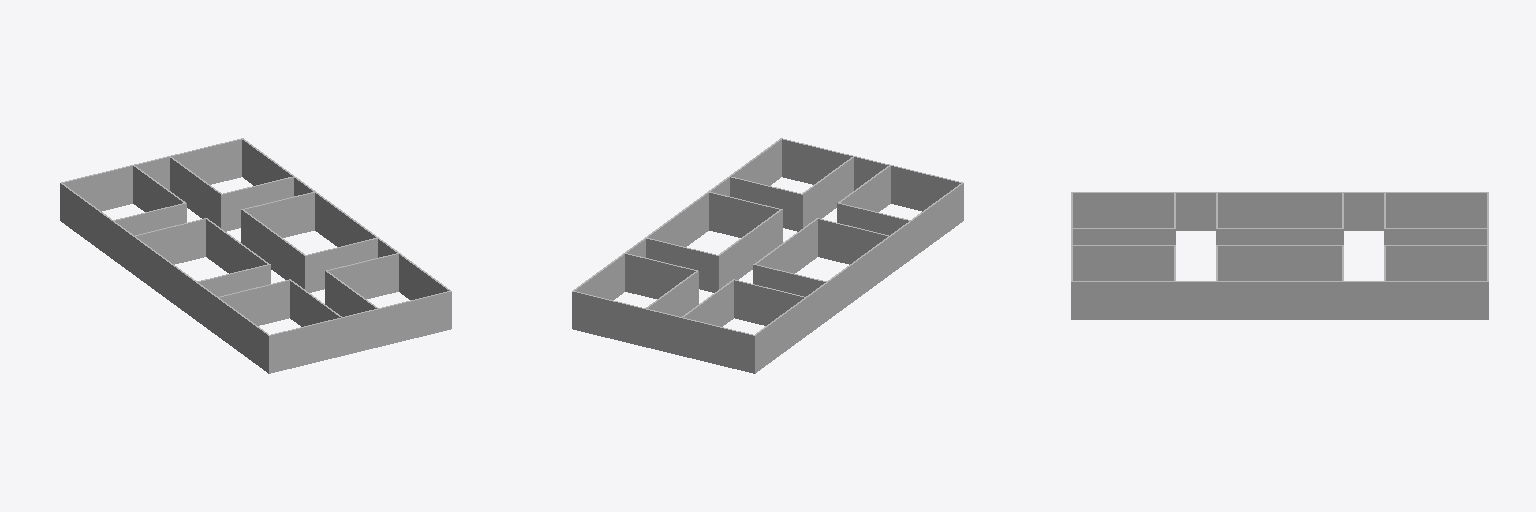
Rendered from floorplan.obj.
3 renders of one model, left to right at view 1: azimuth 30°, elevation 25°; view 2: azimuth 150°, elevation 25°; view 3: azimuth 270°, elevation 25°, orthographic.
Parts seen in each view (by area): view 1: Plane.001_Plane; view 2: Plane.001_Plane; view 3: Plane.001_Plane.
Part boxes in pixels (x1,y1,x2,y2): Plane.001_Plane: (60,138,451,373); Plane.001_Plane: (572,138,963,373); Plane.001_Plane: (1071,192,1488,319).
Size of the model in its own units: 10.1 by 2 by 20.